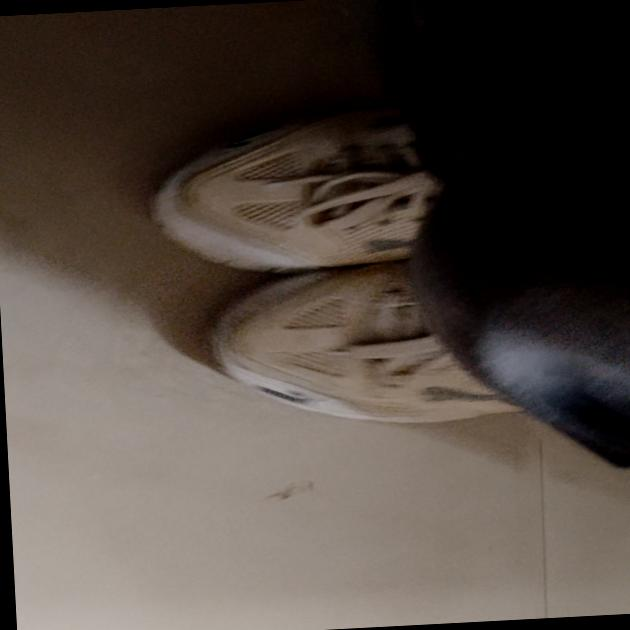shoes: (100, 40, 589, 470)
